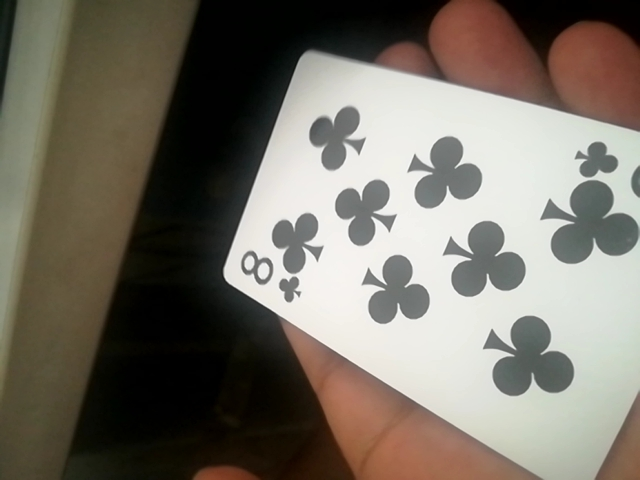mh 8: (204, 56, 634, 475)
